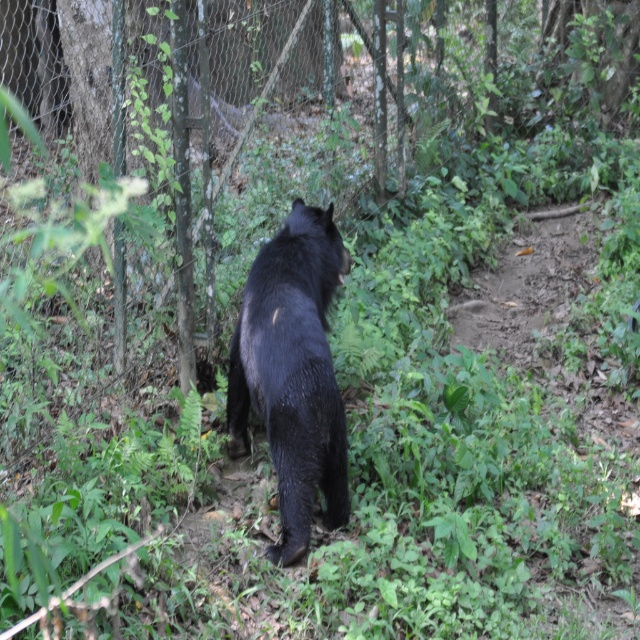Bear: (223, 196, 354, 569)
